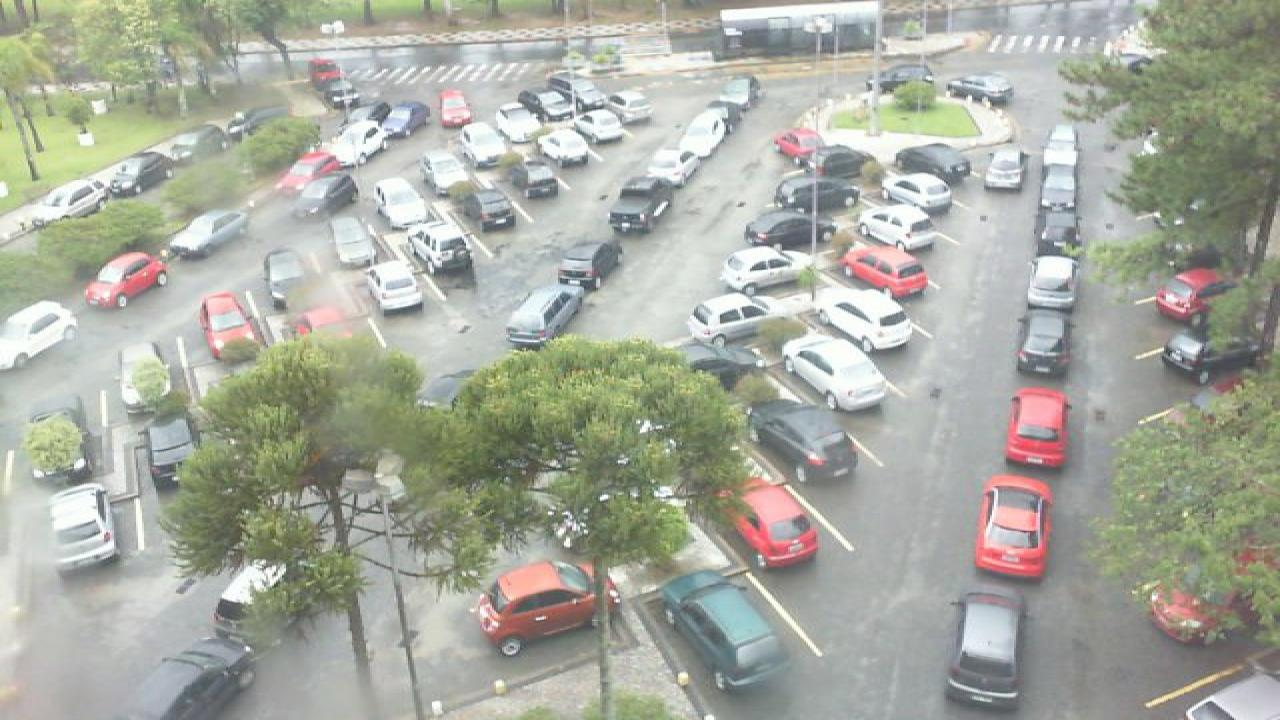Car: (642, 567, 790, 694), (474, 554, 622, 652), (114, 637, 256, 720), (742, 397, 860, 485), (722, 476, 824, 569), (776, 337, 888, 413), (1142, 575, 1250, 648), (40, 481, 120, 574), (1160, 312, 1252, 388), (826, 282, 916, 354), (500, 281, 588, 351), (0, 298, 78, 371), (84, 250, 170, 309), (688, 290, 778, 346), (838, 245, 930, 298), (210, 566, 274, 641), (1152, 267, 1232, 326), (162, 208, 252, 260), (196, 290, 260, 360), (716, 244, 806, 293), (140, 416, 198, 490), (742, 210, 830, 254), (856, 202, 934, 250), (890, 142, 974, 186), (404, 222, 474, 274), (32, 174, 112, 218), (366, 258, 428, 314), (608, 180, 672, 234), (556, 238, 626, 287), (284, 173, 358, 219), (260, 246, 308, 314), (880, 172, 954, 216), (104, 153, 178, 197), (324, 118, 394, 164), (770, 179, 854, 215), (274, 150, 344, 192), (370, 176, 426, 228), (790, 148, 866, 185), (432, 187, 490, 235), (670, 110, 732, 154), (326, 214, 378, 266), (706, 74, 760, 124), (414, 143, 472, 189), (158, 125, 228, 163), (646, 142, 702, 188), (456, 121, 510, 168), (508, 153, 560, 199), (946, 73, 1016, 107), (372, 100, 430, 141), (470, 160, 522, 204), (770, 126, 834, 161), (502, 126, 550, 172), (222, 106, 280, 143), (540, 126, 590, 165), (606, 89, 656, 126), (578, 108, 626, 145), (982, 150, 1026, 190), (436, 90, 476, 130)
